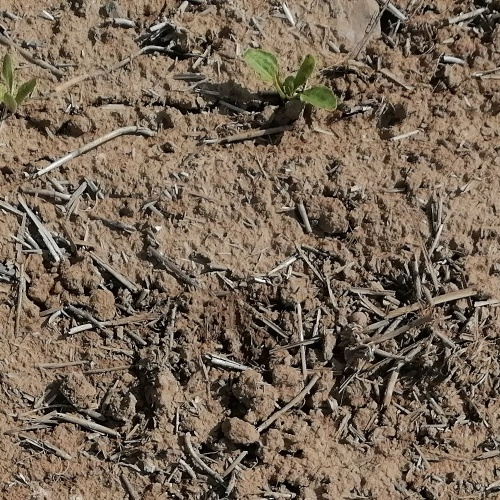beet: (244, 47, 342, 112), (0, 52, 38, 116)
